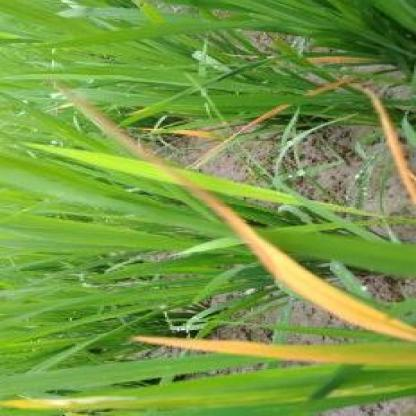Tungro: (200, 193, 416, 342), (135, 335, 416, 365)
